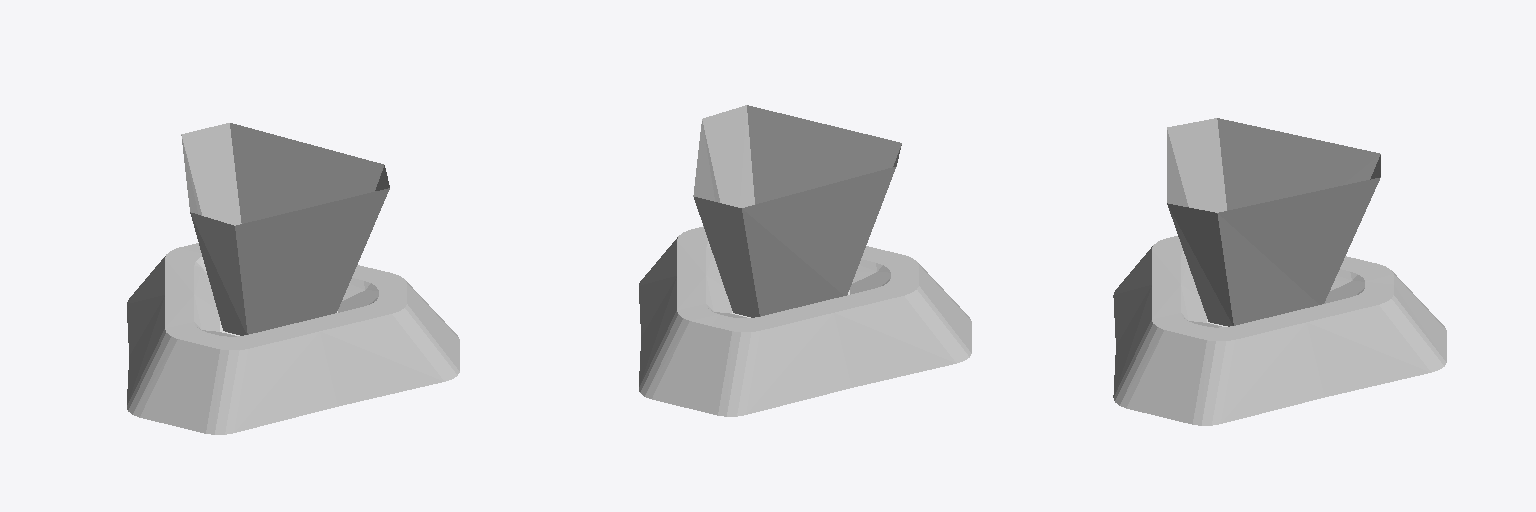
3 views of the same model, side by side, from view 1: azimuth 30°, elevation 25°; view 2: azimuth 150°, elevation 25°; view 3: azimuth 270°, elevation 25° (orthographic).
Visible parts, largest first — view 1: Prop_ItemHolder_Plane.144; view 2: Prop_ItemHolder_Plane.144; view 3: Prop_ItemHolder_Plane.144.
Part boxes in pixels (x1,y1,x2,y2): Prop_ItemHolder_Plane.144: (127,123,459,434); Prop_ItemHolder_Plane.144: (639,105,971,416); Prop_ItemHolder_Plane.144: (1113,118,1446,425).
Bounding box in the file's own units: 0.8186 × 0.4358 × 0.7267.
3 materials, 1 textured.